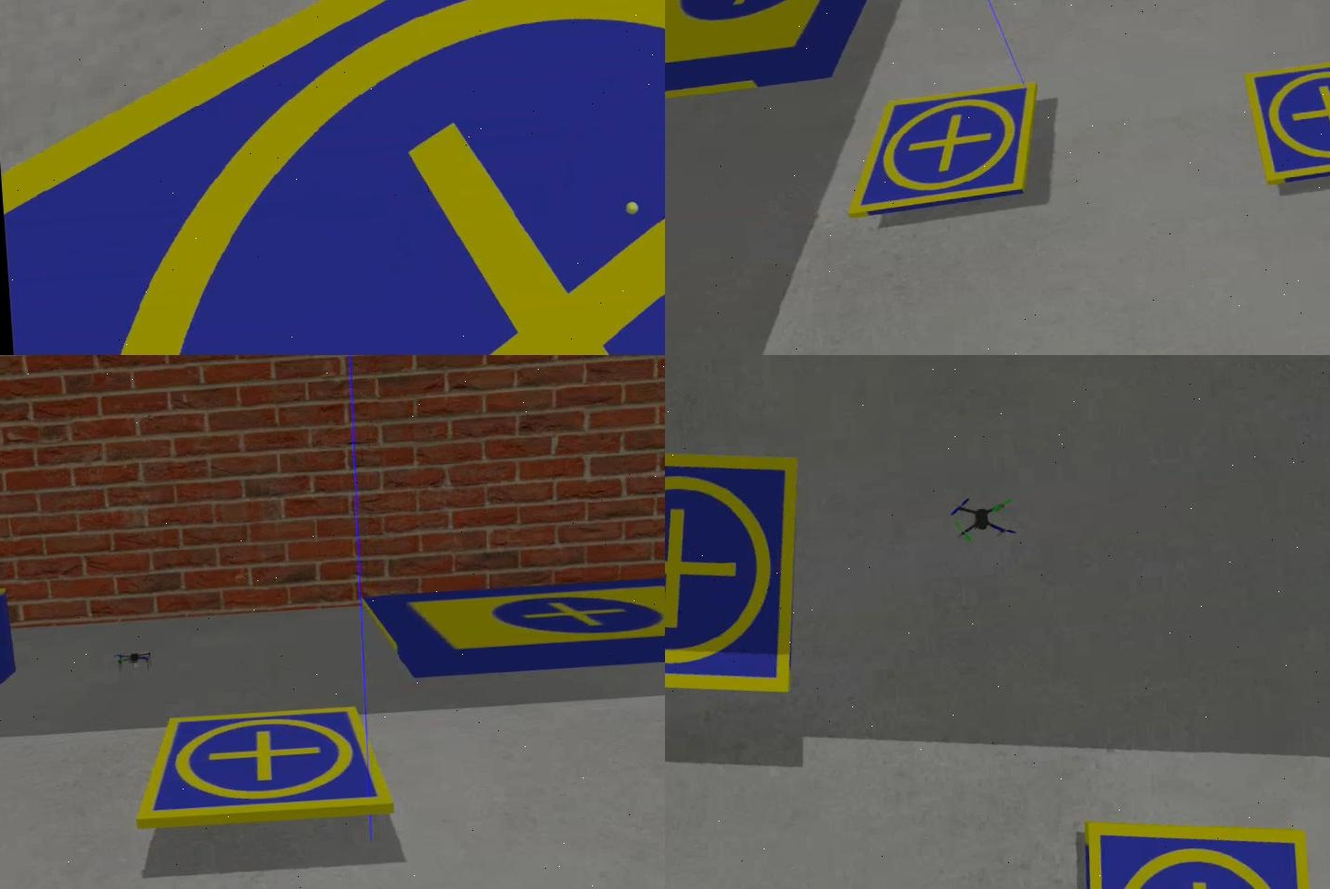large_base: (361, 558, 663, 682), (663, 1, 929, 101)
small_base: (0, 1, 663, 356), (663, 435, 813, 716), (125, 703, 391, 834), (838, 80, 1044, 222), (1074, 813, 1317, 889), (1243, 50, 1328, 189)
